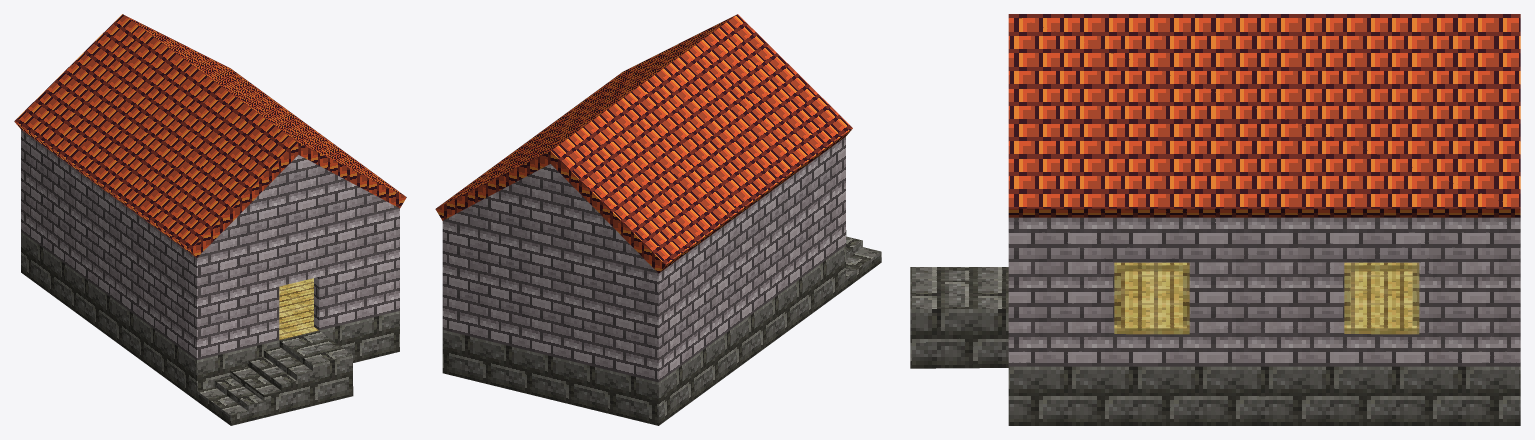
The model's file is basementhouse.obj.
The picture shows the model from 3 angles, left to right: view 1: azimuth 30°, elevation 25°; view 2: azimuth 150°, elevation 25°; view 3: azimuth 270°, elevation 25°; orthographic projection. The views are drawn at different scales.
Parts seen in each view (by area): view 1: Plane.008_Plane.011, Plane.003, Plane.002_Plane.008, Plane.001, Plane.009_Plane.014; view 2: Plane.008_Plane.011, Plane.003, Plane.002_Plane.008, Plane.001; view 3: Plane.003, Plane.008_Plane.011, Plane.002_Plane.008, Plane.001, Plane.009_Plane.014, Plane.005_Plane.012.
Boxes of the visible parts, bbox=[...] form: Plane.008_Plane.011: bbox=[21, 129, 399, 360]; Plane.003: bbox=[14, 14, 406, 257]; Plane.002_Plane.008: bbox=[21, 232, 399, 400]; Plane.001: bbox=[197, 330, 353, 425]; Plane.009_Plane.014: bbox=[279, 278, 318, 339]; Plane.008_Plane.011: bbox=[442, 137, 845, 382]; Plane.003: bbox=[435, 14, 852, 273]; Plane.002_Plane.008: bbox=[442, 245, 845, 425]; Plane.001: bbox=[846, 230, 881, 288]; Plane.003: bbox=[1008, 14, 1520, 217]; Plane.008_Plane.011: bbox=[1008, 217, 1520, 366]; Plane.002_Plane.008: bbox=[1008, 366, 1520, 425]; Plane.001: bbox=[910, 267, 1008, 368]; Plane.009_Plane.014: bbox=[1121, 271, 1412, 316]; Plane.005_Plane.012: bbox=[1114, 262, 1419, 334].
Bounding box in the file's own units: 11.15 × 11.44 × 18.6.
